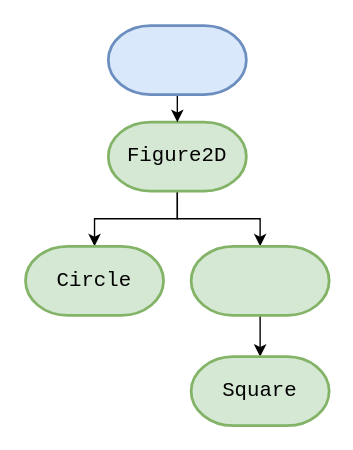
This 353x450 diagram has some shape labels left out. The box of each missing label's shape, as (x1, y1, x2, y2) in pixels:
Figure: (106, 23, 247, 95)
Rectangle: (189, 244, 330, 316)
